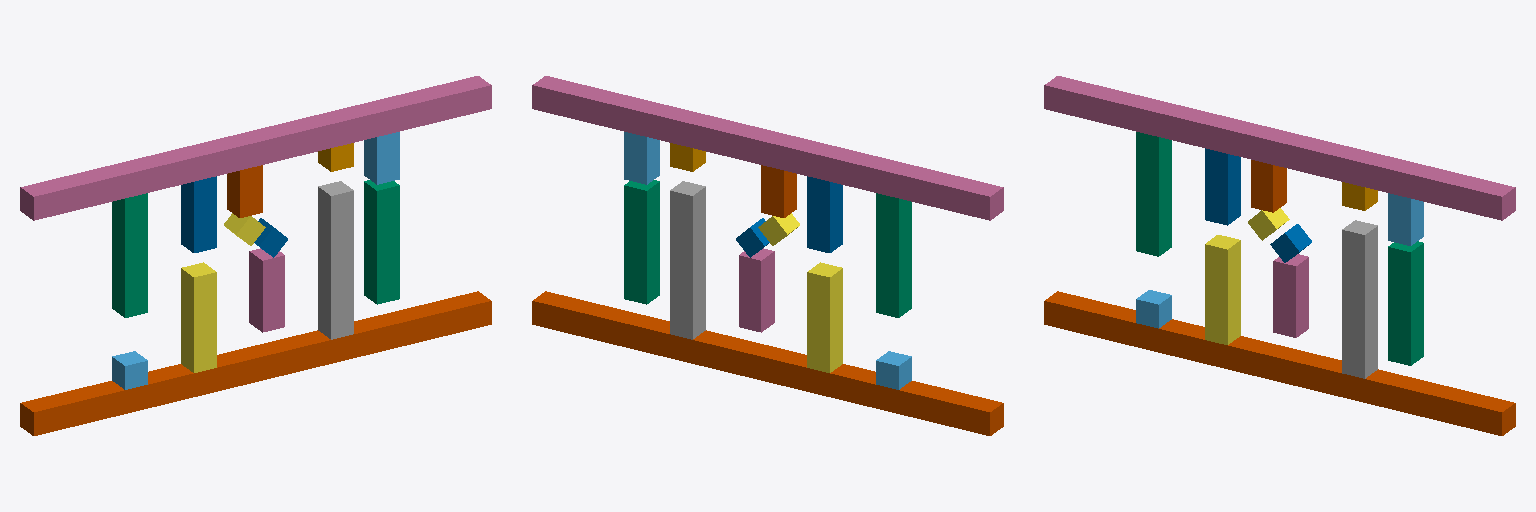
The robot description file, URDF, robot "forest":
<robot name="forest">
  <material name="gray">
    <color rbga="0.3 0.3 0.3 1.0"/>
  </material>
  <material name="gold">
    <color rbga="0.0 0.8 0.0 1.0"/>
  </material>
  <material name="deep">
    <color rbga="0.0 0.9 0.9 1.0"/>
  </material>
  <link name="base">
    <inertial>
      <mass value="0.0"/>
      <inertia ixx="0.0" ixy="0.0" ixz="0.0" iyy="0.0" iyz="0.0" izz="0.0"/>
    </inertial>
  </link>
  <link name="obstacle_0">
    <inertial>
      <mass value="1.0"/>
      <inertia ixx="1.0" ixy="0.0" ixz="0.0" iyy="1.0" iyz="0.0" izz="1.0"/>
    </inertial>
    <visual>
      <matertial name="gray"/>
      <geometry>
        <box size="2 2 2"/>
      </geometry>
    </visual>
    <collision>
      <geometry>
        <box size="2 2 2"/>
      </geometry>
    </collision>
  </link>
  <joint name="base_to_obstacle_0" type="fixed">
    <origin xyz="-11 0.9 -7" rpy="0 0 0"/>
    <parent link="base"/>
    <child link="obstacle_0"/>
  </joint>
  <link name="obstacle_1">
    <inertial>
      <mass value="1.0"/>
      <inertia ixx="1.0" ixy="0.0" ixz="0.0" iyy="1.0" iyz="0.0" izz="1.0"/>
    </inertial>
    <visual>
      <matertial name="gray"/>
      <geometry>
        <box size="2 2 10"/>
      </geometry>
    </visual>
    <collision>
      <geometry>
        <box size="2 2 10"/>
      </geometry>
    </collision>
  </link>
  <joint name="base_to_obstacle_1" type="fixed">
    <origin xyz="-11 0.9 3" rpy="0 0 0"/>
    <parent link="base"/>
    <child link="obstacle_1"/>
  </joint>
  <link name="obstacle_2">
    <inertial>
      <mass value="1.0"/>
      <inertia ixx="1.0" ixy="0.0" ixz="0.0" iyy="1.0" iyz="0.0" izz="1.0"/>
    </inertial>
    <visual>
      <matertial name="gray"/>
      <geometry>
        <box size="2 2 8"/>
      </geometry>
    </visual>
    <collision>
      <geometry>
        <box size="2 2 8"/>
      </geometry>
    </collision>
  </link>
  <joint name="base_to_obstacle_2" type="fixed">
    <origin xyz="-5 0.9 -4" rpy="0 0 0"/>
    <parent link="base"/>
    <child link="obstacle_2"/>
  </joint>
  <link name="obstacle_3">
    <inertial>
      <mass value="1.0"/>
      <inertia ixx="1.0" ixy="0.0" ixz="0.0" iyy="1.0" iyz="0.0" izz="1.0"/>
    </inertial>
    <visual>
      <matertial name="gray"/>
      <geometry>
        <box size="2 2 6"/>
      </geometry>
    </visual>
    <collision>
      <geometry>
        <box size="2 2 6"/>
      </geometry>
    </collision>
  </link>
  <joint name="base_to_obstacle_3" type="fixed">
    <origin xyz="-5 0.9 5" rpy="0 0 0"/>
    <parent link="base"/>
    <child link="obstacle_3"/>
  </joint>
  <link name="obstacle_4">
    <inertial>
      <mass value="1.0"/>
      <inertia ixx="1.0" ixy="0.0" ixz="0.0" iyy="1.0" iyz="0.0" izz="1.0"/>
    </inertial>
    <visual>
      <matertial name="gray"/>
      <geometry>
        <box size="2 2 4"/>
      </geometry>
    </visual>
    <collision>
      <geometry>
        <box size="2 2 4"/>
      </geometry>
    </collision>
  </link>
  <joint name="base_to_obstacle_4" type="fixed">
    <origin xyz="-1 0.9 6" rpy="0 0 0"/>
    <parent link="base"/>
    <child link="obstacle_4"/>
  </joint>
  <link name="obstacle_5">
    <inertial>
      <mass value="1.0"/>
      <inertia ixx="1.0" ixy="0.0" ixz="0.0" iyy="1.0" iyz="0.0" izz="1.0"/>
    </inertial>
    <visual>
      <matertial name="gray"/>
      <geometry>
        <box size="2 2 6"/>
      </geometry>
    </visual>
    <collision>
      <geometry>
        <box size="2 2 6"/>
      </geometry>
    </collision>
  </link>
  <joint name="base_to_obstacle_5" type="fixed">
    <origin xyz="1 0.9 -3" rpy="0 0 0"/>
    <parent link="base"/>
    <child link="obstacle_5"/>
  </joint>
  <link name="obstacle_6">
    <inertial>
      <mass value="1.0"/>
      <inertia ixx="1.0" ixy="0.0" ixz="0.0" iyy="1.0" iyz="0.0" izz="1.0"/>
    </inertial>
    <visual>
      <matertial name="gray"/>
      <geometry>
        <box size="2 2 12"/>
      </geometry>
    </visual>
    <collision>
      <geometry>
        <box size="2 2 12"/>
      </geometry>
    </collision>
  </link>
  <joint name="base_to_obstacle_6" type="fixed">
    <origin xyz="7 0.9 -2" rpy="0 0 0"/>
    <parent link="base"/>
    <child link="obstacle_6"/>
  </joint>
  <link name="obstacle_7">
    <inertial>
      <mass value="1.0"/>
      <inertia ixx="1.0" ixy="0.0" ixz="0.0" iyy="1.0" iyz="0.0" izz="1.0"/>
    </inertial>
    <visual>
      <matertial name="gray"/>
      <geometry>
        <box size="2 2 2"/>
      </geometry>
    </visual>
    <collision>
      <geometry>
        <box size="2 2 2"/>
      </geometry>
    </collision>
  </link>
  <joint name="base_to_obstacle_7" type="fixed">
    <origin xyz="7 0.9 7" rpy="0 0 0"/>
    <parent link="base"/>
    <child link="obstacle_7"/>
  </joint>
  <link name="obstacle_8">
    <inertial>
      <mass value="1.0"/>
      <inertia ixx="1.0" ixy="0.0" ixz="0.0" iyy="1.0" iyz="0.0" izz="1.0"/>
    </inertial>
    <visual>
      <matertial name="gray"/>
      <geometry>
        <box size="2 2 4"/>
      </geometry>
    </visual>
    <collision>
      <geometry>
        <box size="2 2 4"/>
      </geometry>
    </collision>
  </link>
  <joint name="base_to_obstacle_8" type="fixed">
    <origin xyz="11 0.9 6" rpy="0 0 0"/>
    <parent link="base"/>
    <child link="obstacle_8"/>
  </joint>
  <link name="obstacle_9">
    <inertial>
      <mass value="1.0"/>
      <inertia ixx="1.0" ixy="0.0" ixz="0.0" iyy="1.0" iyz="0.0" izz="1.0"/>
    </inertial>
    <visual>
      <matertial name="gray"/>
      <geometry>
        <box size="2 2 9.5"/>
      </geometry>
    </visual>
    <collision>
      <geometry>
        <box size="2 2 9.5"/>
      </geometry>
    </collision>
  </link>
  <joint name="base_to_obstacle_9" type="fixed">
    <origin xyz="11 0.9 -1.25" rpy="0 0 0"/>
    <parent link="base"/>
    <child link="obstacle_9"/>
  </joint>
  <link name="obstacle_10">
    <inertial>
      <mass value="1.0"/>
      <inertia ixx="1.0" ixy="0.0" ixz="0.0" iyy="1.0" iyz="0.0" izz="1.0"/>
    </inertial>
    <visual>
      <matertial name="gold"/>
      <geometry>
        <box size="1.8213203435596428 2 1.8213203435596428"/>
      </geometry>
    </visual>
    <collision>
      <geometry>
        <box size="1.8213203435596428 2 1.8213203435596428"/>
      </geometry>
    </collision>
  </link>
  <joint name="base_to_obstacle_10" type="fixed">
    <origin xyz="-1 0.9 2.7121320343559643" rpy="0 0.785 0"/>
    <parent link="base"/>
    <child link="obstacle_10"/>
  </joint>
  <link name="obstacle_11">
    <inertial>
      <mass value="1.0"/>
      <inertia ixx="1.0" ixy="0.0" ixz="0.0" iyy="1.0" iyz="0.0" izz="1.0"/>
    </inertial>
    <visual>
      <matertial name="gold"/>
      <geometry>
        <box size="1.8213203435596428 2 1.8213203435596428"/>
      </geometry>
    </visual>
    <collision>
      <geometry>
        <box size="1.8213203435596428 2 1.8213203435596428"/>
      </geometry>
    </collision>
  </link>
  <joint name="base_to_obstacle_11" type="fixed">
    <origin xyz="1 0.9 1.2878679656440357" rpy="0 0.785 0"/>
    <parent link="base"/>
    <child link="obstacle_11"/>
  </joint>
  <link name="obstacle_12">
    <inertial>
      <mass value="1.0"/>
      <inertia ixx="1.0" ixy="0.0" ixz="0.0" iyy="1.0" iyz="0.0" izz="1.0"/>
    </inertial>
    <visual>
      <matertial name="deep"/>
      <geometry>
        <box size="40 2 2"/>
      </geometry>
    </visual>
    <collision>
      <geometry>
        <box size="40 2 2"/>
      </geometry>
    </collision>
  </link>
  <joint name="base_to_obstacle_12" type="fixed">
    <origin xyz="0 0.9 -9" rpy="0 0 0"/>
    <parent link="base"/>
    <child link="obstacle_12"/>
  </joint>
  <link name="obstacle_13">
    <inertial>
      <mass value="1.0"/>
      <inertia ixx="1.0" ixy="0.0" ixz="0.0" iyy="1.0" iyz="0.0" izz="1.0"/>
    </inertial>
    <visual>
      <matertial name="deep"/>
      <geometry>
        <box size="40 2 2"/>
      </geometry>
    </visual>
    <collision>
      <geometry>
        <box size="40 2 2"/>
      </geometry>
    </collision>
  </link>
  <joint name="base_to_obstacle_13" type="fixed">
    <origin xyz="0 0.9 9" rpy="0 0 0"/>
    <parent link="base"/>
    <child link="obstacle_13"/>
  </joint>
</robot>

--- Facts derived from the render (not from the file) ---
The picture shows the robot from 3 angles, left to right: view 1: azimuth 30°, elevation 25°; view 2: azimuth 150°, elevation 25°; view 3: azimuth 330°, elevation 25°; orthographic projection.
Robot: forest — 15 links, 14 joints (14 fixed); root link base; default pose: every joint at zero.
Visible links, largest first — view 1: obstacle_13, obstacle_12, obstacle_6, obstacle_9, obstacle_1, obstacle_2, obstacle_5, obstacle_3, obstacle_4, obstacle_8, obstacle_0, obstacle_7 (+2 smaller); view 2: obstacle_13, obstacle_12, obstacle_6, obstacle_9, obstacle_1, obstacle_2, obstacle_5, obstacle_3, obstacle_4, obstacle_8, obstacle_0, obstacle_7 (+2 smaller); view 3: obstacle_13, obstacle_12, obstacle_6, obstacle_9, obstacle_1, obstacle_2, obstacle_5, obstacle_3, obstacle_8, obstacle_4, obstacle_0, obstacle_11 (+2 smaller).
Boxes of the visible links, x1,y1,x2,y2 form: obstacle_13: (20,76,491,220); obstacle_12: (20,291,491,435); obstacle_6: (318,181,353,339); obstacle_9: (364,180,399,304); obstacle_1: (112,193,147,317); obstacle_2: (181,262,216,372); obstacle_5: (249,248,284,332); obstacle_3: (181,176,216,252); obstacle_4: (227,165,262,217); obstacle_8: (364,132,399,184); obstacle_0: (112,351,147,389); obstacle_7: (318,143,353,171); obstacle_13: (532,76,1003,220); obstacle_12: (532,291,1003,435); obstacle_6: (670,181,705,339); obstacle_9: (624,180,659,304); obstacle_1: (876,193,911,317); obstacle_2: (807,262,842,372); obstacle_5: (739,248,774,332); obstacle_3: (807,176,842,252); obstacle_4: (761,165,796,217); obstacle_8: (624,132,659,184); obstacle_0: (876,351,911,389); obstacle_7: (670,143,705,171); obstacle_13: (1044,76,1515,220); obstacle_12: (1044,291,1515,435); obstacle_6: (1342,220,1377,378); obstacle_9: (1388,241,1423,365); obstacle_1: (1136,132,1171,256); obstacle_2: (1205,235,1240,344); obstacle_5: (1273,254,1308,337); obstacle_3: (1205,148,1240,225); obstacle_8: (1388,193,1423,245); obstacle_4: (1251,160,1286,212); obstacle_0: (1136,290,1171,328); obstacle_11: (1270,224,1311,262).
Size in the robot's own frame: 40 by 2 by 20 metres.
Geometry: primitives only (box / cylinder / sphere), no mesh files.